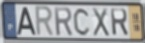A: (16, 6, 37, 37)
C: (72, 7, 91, 37)
R: (35, 5, 56, 38), (52, 6, 74, 37), (109, 8, 130, 38)
X: (91, 6, 111, 38)
